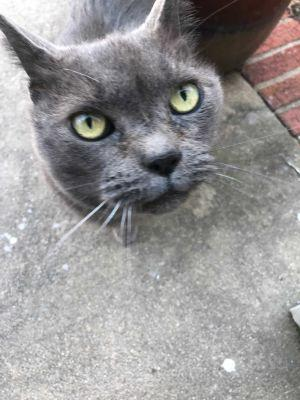rblue: (1, 1, 234, 229)
